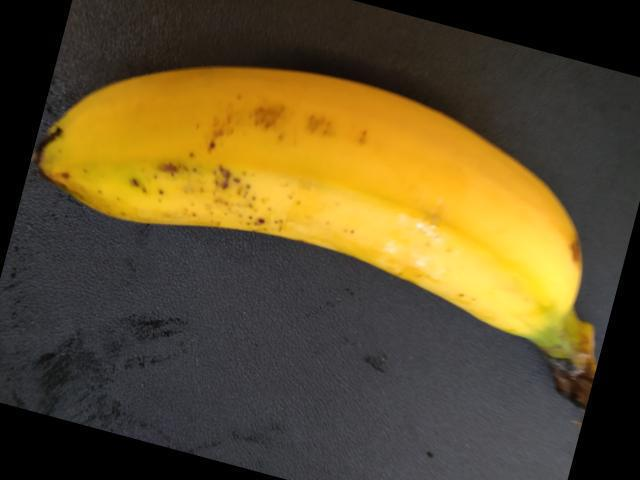ripe: (40, 60, 589, 394)
